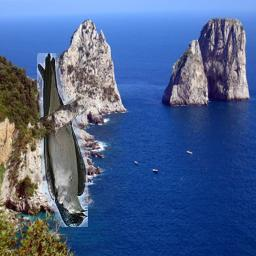Swallow: (38, 53, 89, 227)
